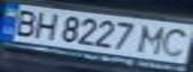2: (93, 17, 118, 51), (75, 15, 100, 47)
7: (112, 19, 139, 52)
8: (54, 14, 81, 44)
B: (3, 7, 42, 37)
C: (157, 26, 193, 59)
H: (27, 10, 63, 40)
M: (136, 22, 172, 56)
